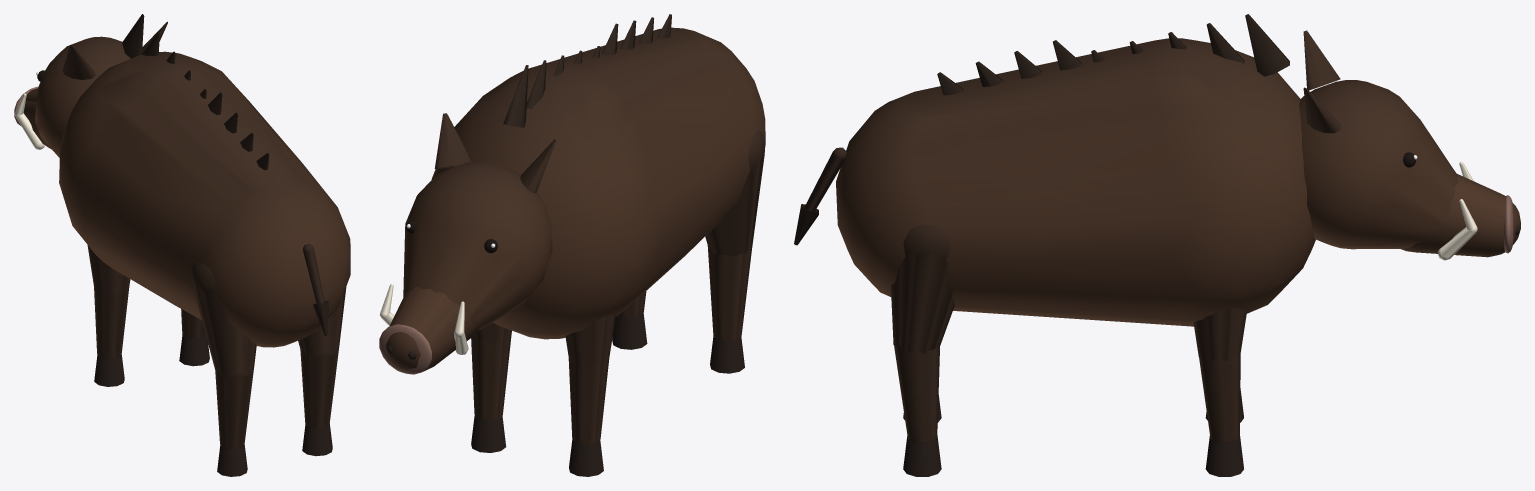
Rendered from Boar.glb.
3 views of the same model, side by side, from view 1: azimuth 30°, elevation 25°; view 2: azimuth 150°, elevation 25°; view 3: azimuth 270°, elevation 25° (orthographic). The views are drawn at different scales.
Visible parts, largest first — view 1: Body, LegBL, Head, LegBR, LegFL, LegFR, Tail; view 2: Body, Head, LegBL, LegFL, LegFR, LegBR; view 3: Body, Head, LegBR, LegFR, Tail.
Boxes of the visible parts, left/top/right/bottom form: Body: left=59, top=14, right=350, bottom=347; LegBL: left=191, top=262, right=256, bottom=476; Head: left=14, top=21, right=167, bottom=157; LegBR: left=298, top=287, right=346, bottom=456; LegFL: left=87, top=245, right=130, bottom=386; LegFR: left=179, top=309, right=209, bottom=366; Tail: left=302, top=243, right=328, bottom=335; Body: left=431, top=14, right=765, bottom=339; Head: left=379, top=113, right=555, bottom=374; LegBL: left=705, top=130, right=765, bottom=373; LegFL: left=565, top=314, right=615, bottom=476; LegFR: left=471, top=322, right=511, bottom=452; LegBR: left=612, top=291, right=647, bottom=349; Body: left=836, top=14, right=1315, bottom=326; Head: left=1299, top=30, right=1520, bottom=260; LegBR: left=890, top=224, right=954, bottom=476; LegFR: left=1193, top=308, right=1246, bottom=476; Tail: left=794, top=147, right=846, bottom=245.
Size of the model in its own units: 2.32 by 4.31 by 6.61.
1 material, 1 textured.
